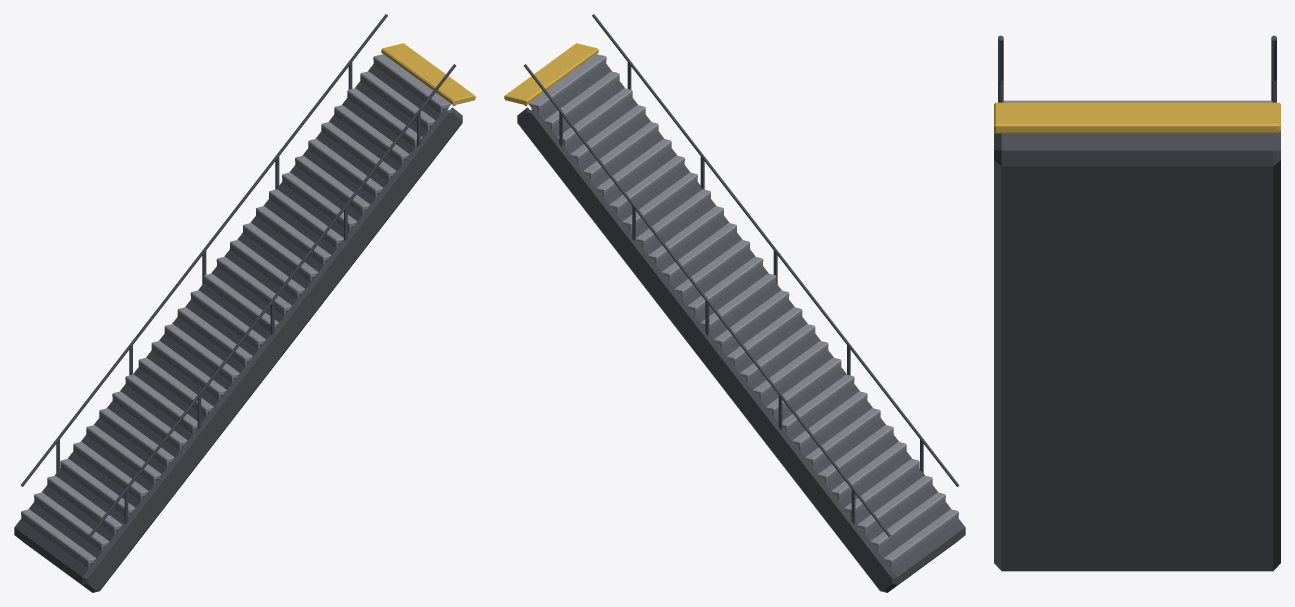
The model's file is spire_stairwell.glb.
3 views of the same model, side by side, from view 1: azimuth 30°, elevation 25°; view 2: azimuth 150°, elevation 25°; view 3: azimuth 270°, elevation 25° (orthographic). The views are drawn at different scales.
Parts seen in each view (by area): view 1: stair_slab, stair_rail-1, stair_rail1, stair_nose, stair_tread27, stair_tread0, stair_tread1, stair_tread6, stair_tread24, stair_tread7, stair_tread12, stair_tread13 (+20 smaller); view 2: stair_slab, stair_rail1, stair_rail-1, stair_nose, stair_tread27, stair_tread0, stair_tread1, stair_tread6, stair_tread5, stair_tread24, stair_tread12, stair_tread13 (+20 smaller); view 3: stair_slab, stair_nose, stair_tread27.
Boxes of the visible parts, x1,y1,x2,y2 form: stair_slab: [14, 64, 462, 592]; stair_rail-1: [20, 14, 387, 486]; stair_rail1: [89, 64, 456, 536]; stair_nose: [381, 43, 475, 105]; stair_tread27: [373, 54, 455, 108]; stair_tread0: [21, 509, 95, 563]; stair_tread1: [34, 492, 108, 546]; stair_tread6: [99, 408, 174, 462]; stair_tread24: [334, 105, 409, 159]; stair_tread7: [112, 391, 187, 445]; stair_tread12: [177, 307, 252, 361]; stair_tread13: [190, 290, 265, 344]; stair_slab: [517, 64, 965, 592]; stair_rail1: [592, 14, 959, 486]; stair_rail-1: [523, 64, 890, 536]; stair_nose: [504, 43, 598, 105]; stair_tread27: [524, 54, 606, 108]; stair_tread0: [884, 509, 958, 563]; stair_tread1: [871, 492, 945, 546]; stair_tread6: [805, 408, 880, 462]; stair_tread5: [818, 425, 893, 479]; stair_tread24: [570, 105, 645, 159]; stair_tread12: [727, 307, 802, 361]; stair_tread13: [714, 290, 789, 344]; stair_slab: [994, 132, 1280, 571]; stair_nose: [994, 102, 1280, 133]; stair_tread27: [1002, 100, 1272, 102].
Bounding box in the file's own units: 10.72 × 11.52 × 3.4.
